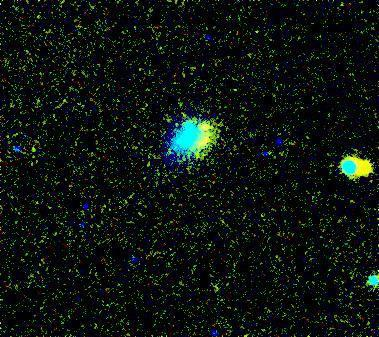star: (192, 112, 222, 142)
